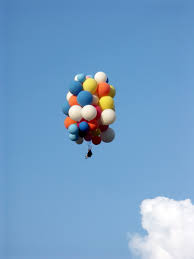Balloon: (82, 105, 97, 121), (77, 90, 92, 106), (101, 109, 115, 125), (68, 105, 82, 121), (99, 96, 114, 109), (99, 129, 114, 142), (83, 78, 96, 92), (94, 71, 108, 83), (97, 83, 110, 95), (67, 123, 78, 134), (78, 122, 89, 132)
